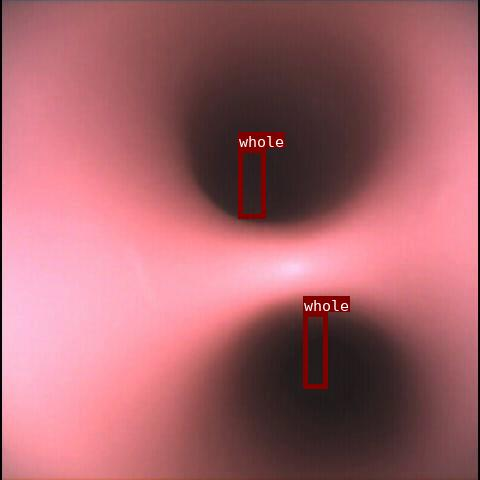whole: (238, 148, 265, 218), (303, 312, 327, 388)
